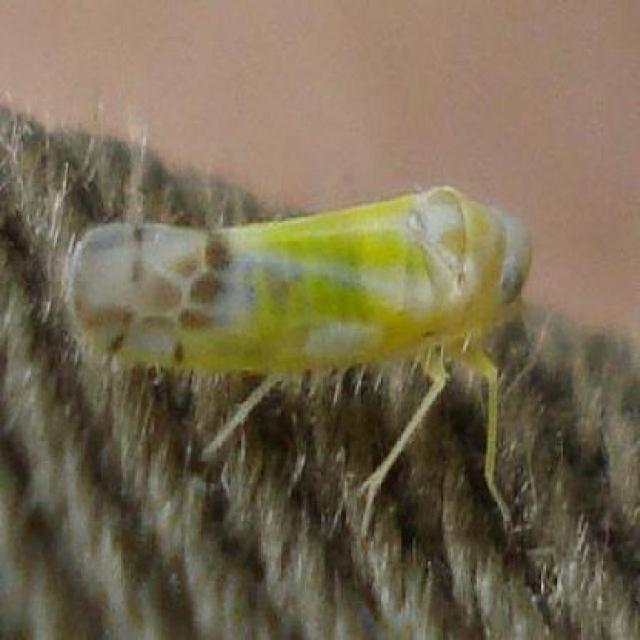green-leafhopper: (79, 179, 538, 392)
